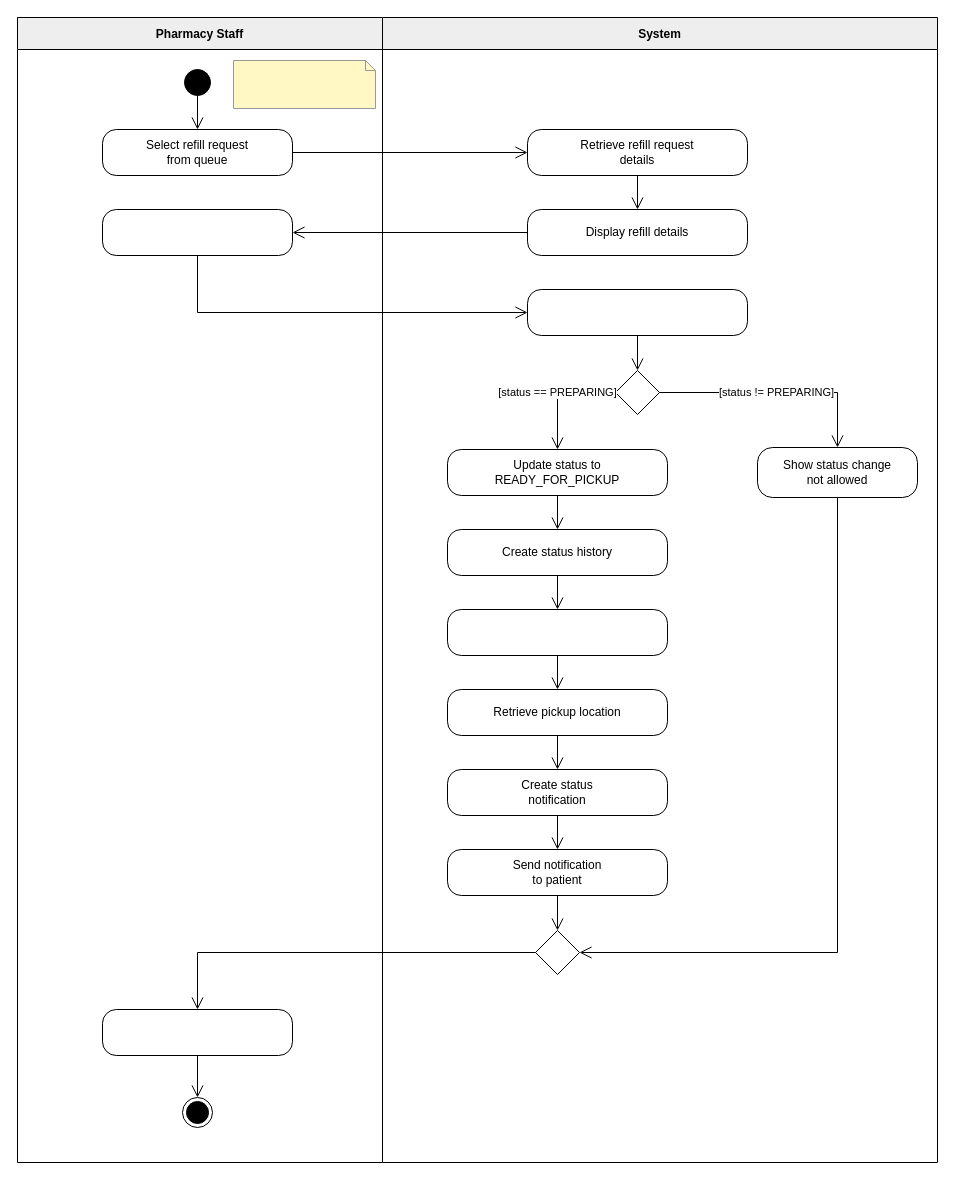
The diagram is 955 pixels wide and 1180 high, and some of its shapes have lost their labels. Here are the shapes that lost their labels. From the top down, the centre of each, then its label:
At (304,84): "Precondition: pharmacy staff is logged in (UC-02)".
At (197,232): "Mark ready for pickup".
At (637,312): "Check refill status".
At (557,632): "Create pickup order".
At (197,1032): "View result".
